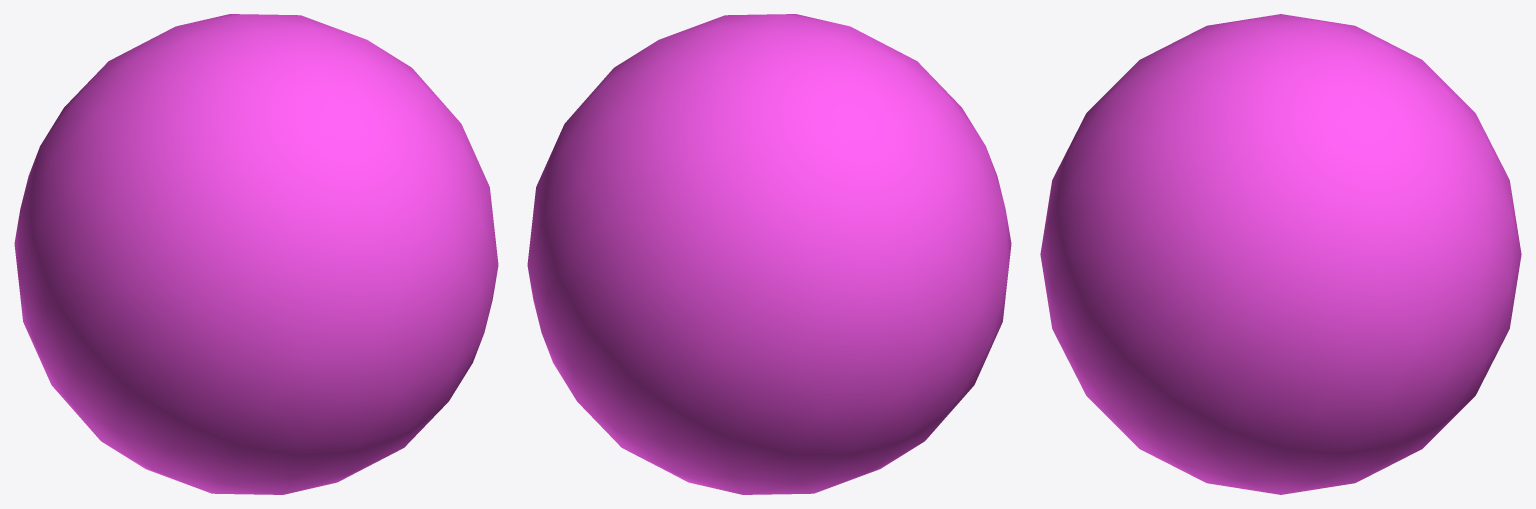
File: normaltest2.obj
3 views of the same model, side by side, from view 1: azimuth 30°, elevation 25°; view 2: azimuth 150°, elevation 25°; view 3: azimuth 270°, elevation 25° (orthographic).
Parts seen in each view (by area): view 1: Icosphere_Icosphere.002; view 2: Icosphere_Icosphere.002; view 3: Icosphere_Icosphere.002.
Boxes of the visible parts, box(x1,y1,x2,y2) form: Icosphere_Icosphere.002: box(14, 14, 498, 494); Icosphere_Icosphere.002: box(527, 14, 1011, 494); Icosphere_Icosphere.002: box(1040, 14, 1521, 494).
Size of the model in its own units: 2 by 2 by 2.
1 material, 1 textured.
